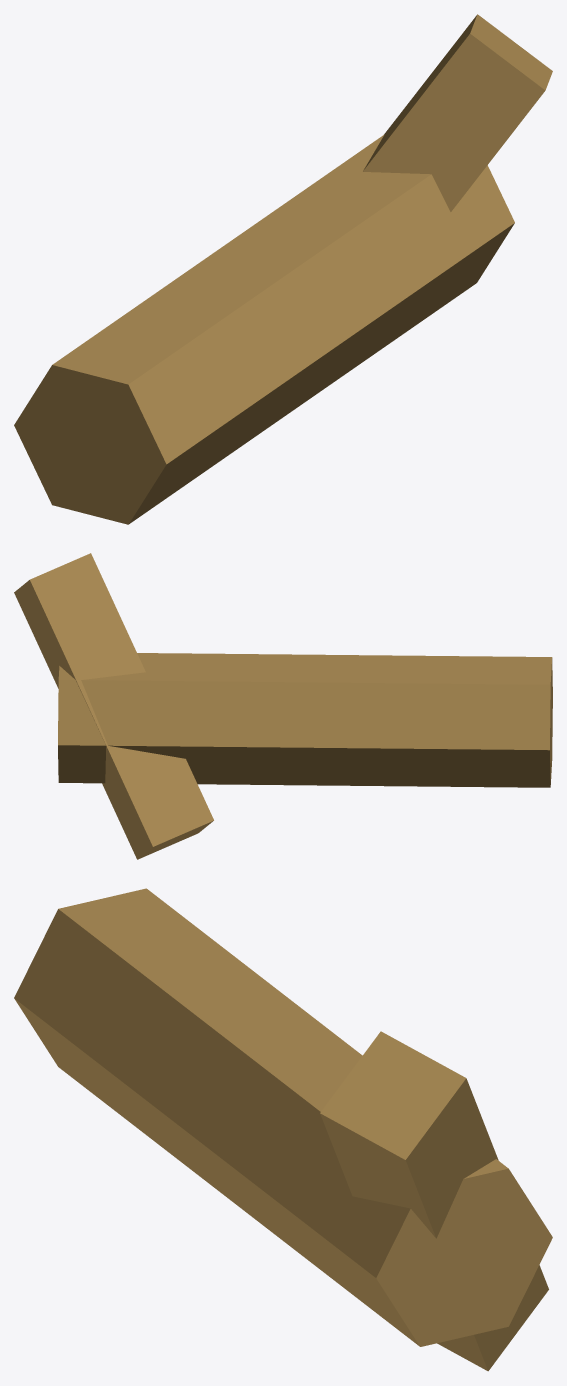
The model's file is jungle_root.dae.
3 renders of one model, top to bottom at view 1: azimuth 30°, elevation 25°; view 2: azimuth 150°, elevation 25°; view 3: azimuth 270°, elevation 25°, orthographic. The views are drawn at different scales.
Visible parts, largest first — view 1: Cylinder, Cylinder.001; view 2: Cylinder, Cylinder.001; view 3: Cylinder, Cylinder.001.
Part boxes in pixels (box(x1,y1,x2,y2)): Cylinder: box(14, 134, 514, 524); Cylinder.001: box(363, 14, 552, 211); Cylinder: box(58, 653, 552, 787); Cylinder.001: box(14, 553, 213, 859); Cylinder: box(14, 888, 552, 1346); Cylinder.001: box(320, 1031, 548, 1371).
Size of the model in its own units: 32.79 by 21.4 by 17.58.
